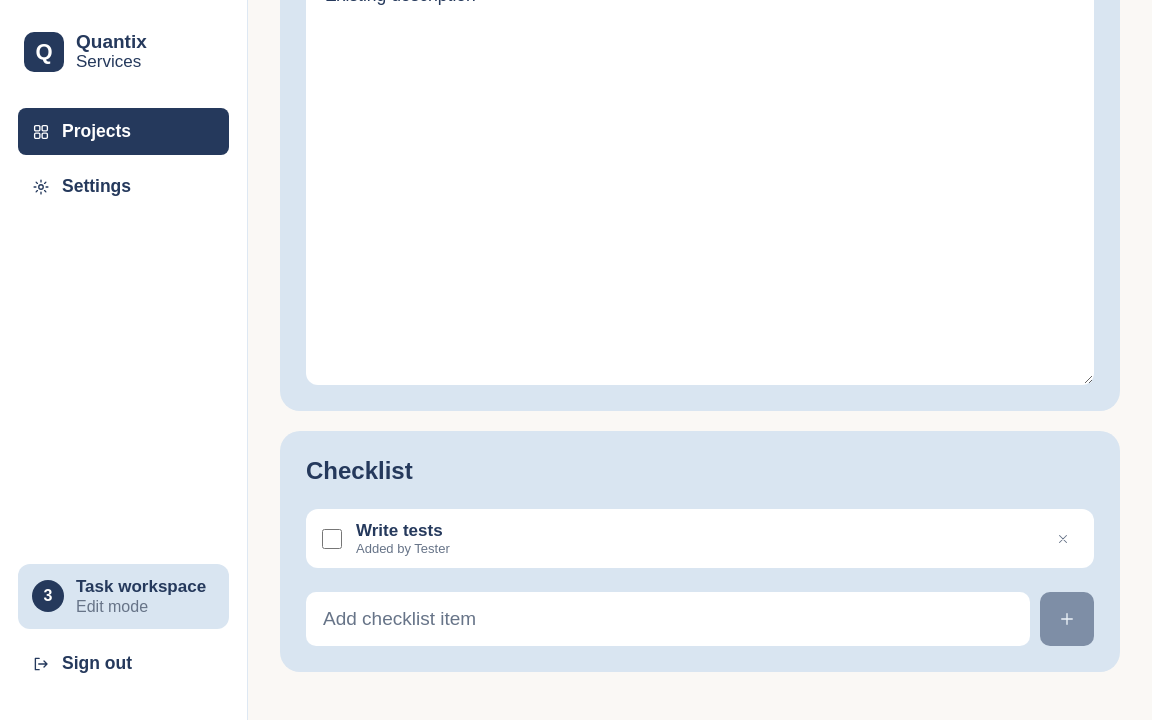
Checklists and permissions › allows Admins to add checklist items
(page scrolled)
Type "Review code" into the field named "New checklist item" at (668, 619), box x1=306 y1=592 x2=1030 y2=646
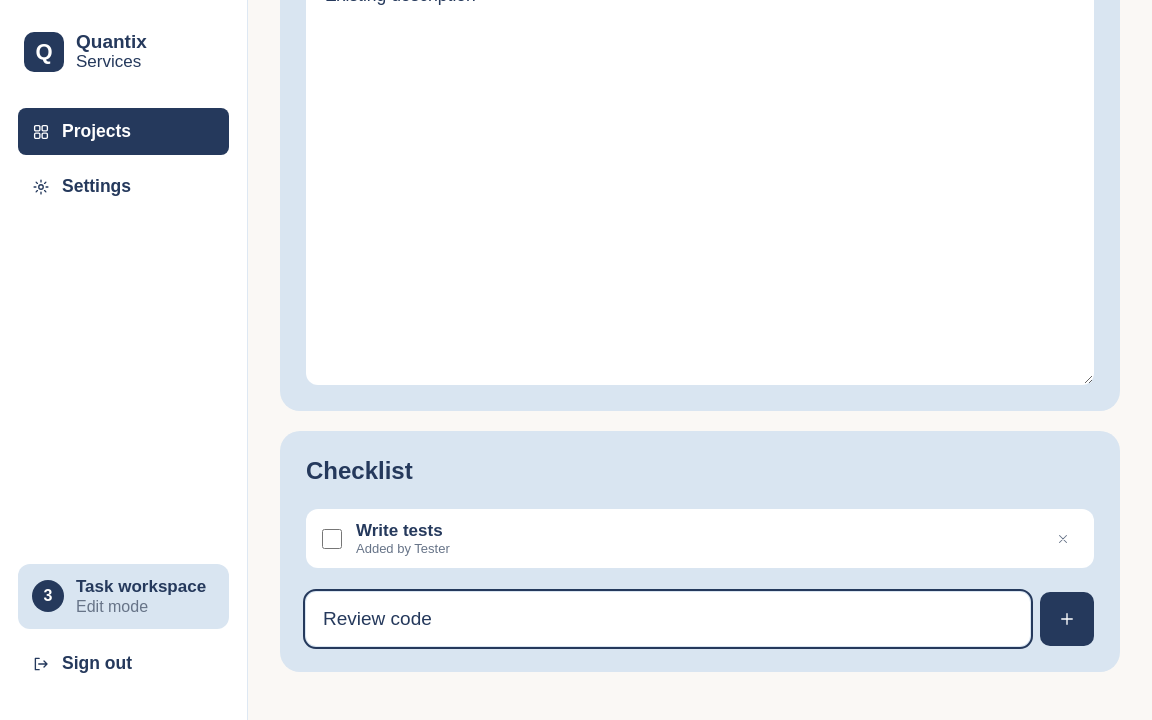
Click the button named "Add checklist item" at (1067, 619), box x1=1040 y1=592 x2=1094 y2=646
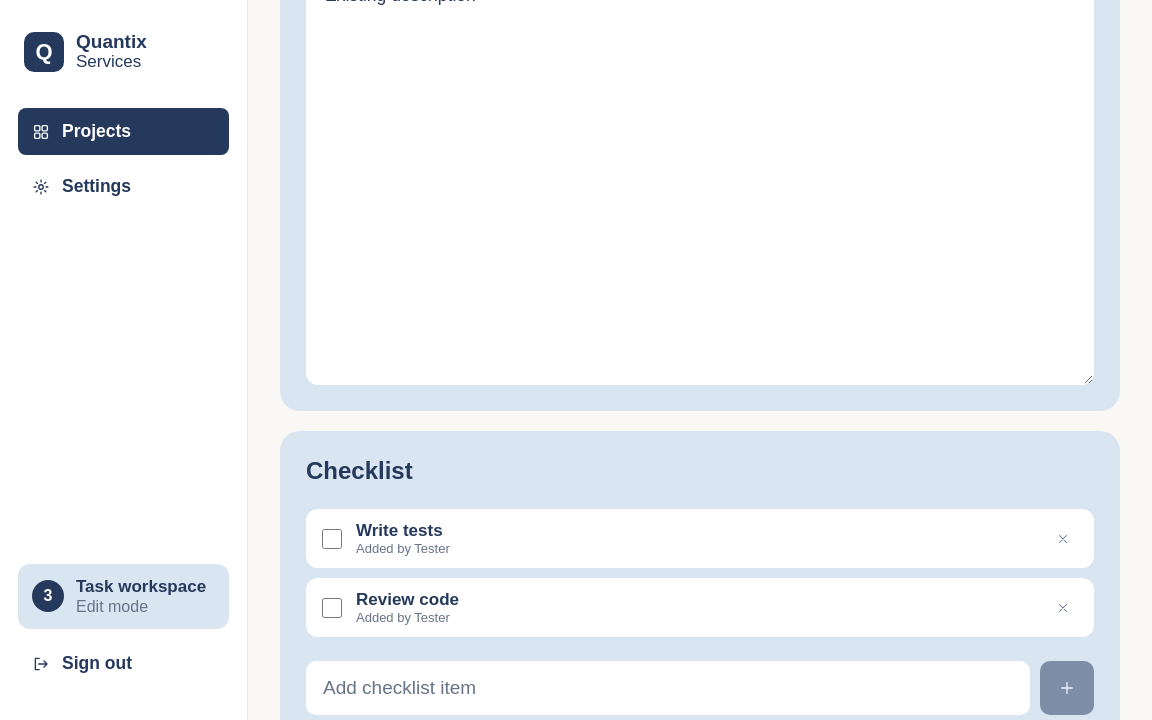
Check: the text "Review code" is shown, box x1=356 y1=590 x2=459 y2=610
Check: the text "Added by Tester" is shown 2 times, box x1=356 y1=541 x2=450 y2=556; x1=356 y1=610 x2=459 y2=625
